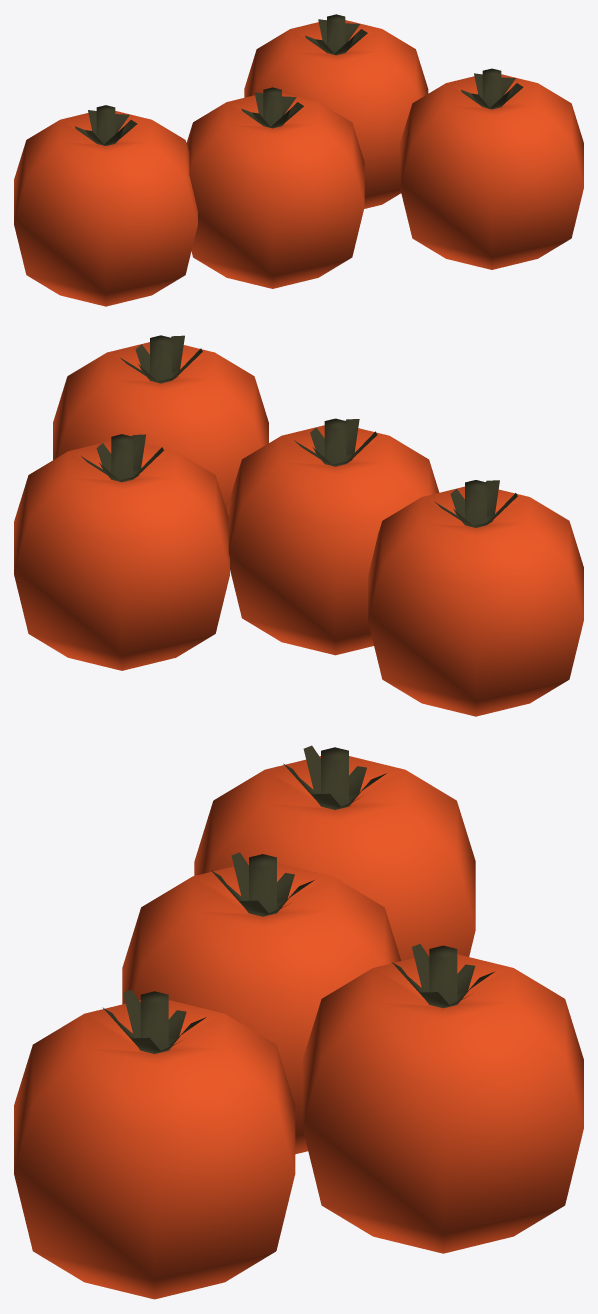
The model's file is Tomatoes.fbx.
3 renders of one model, top to bottom at view 1: azimuth 30°, elevation 25°; view 2: azimuth 150°, elevation 25°; view 3: azimuth 270°, elevation 25°, orthographic. The views are drawn at different scales.
Parts seen in each view (by area): view 1: Tomato, Tomato.002, Tomato.001, Tomato.003, TomatoTop, TomatoTop.002, TomatoTop.003, TomatoTop.001; view 2: Tomato.003, Tomato.002, Tomato.001, Tomato, TomatoTop.001, TomatoTop.002, TomatoTop, TomatoTop.003; view 3: Tomato, Tomato.003, Tomato.001, Tomato.002, TomatoTop.003, TomatoTop.002, TomatoTop.001, TomatoTop.
Part boxes in pixels (x1,y1,x2,y2): Tomato: [400, 74, 583, 269]; Tomato.002: [14, 111, 197, 306]; Tomato.001: [186, 93, 364, 288]; Tomato.003: [244, 20, 428, 208]; TomatoTop: [74, 105, 137, 145]; TomatoTop.002: [461, 68, 523, 109]; TomatoTop.003: [305, 14, 367, 55]; TomatoTop.001: [241, 87, 303, 128]; Tomato.003: [14, 441, 229, 670]; Tomato.002: [368, 486, 583, 716]; Tomato.001: [227, 425, 439, 655]; Tomato: [53, 342, 268, 511]; TomatoTop.001: [294, 418, 377, 466]; TomatoTop.002: [119, 335, 202, 383]; TomatoTop: [434, 480, 517, 527]; TomatoTop.003: [81, 434, 163, 482]; Tomato: [14, 1000, 295, 1299]; Tomato.003: [302, 954, 583, 1253]; Tomato.001: [122, 862, 400, 1154]; Tomato.002: [194, 756, 475, 960]; TomatoTop.003: [392, 944, 494, 1008]; TomatoTop.002: [102, 989, 206, 1053]; TomatoTop.001: [211, 852, 314, 916]; TomatoTop: [283, 745, 386, 809].
Bounding box in the file's own units: 25 × 8.16 × 15.79.
